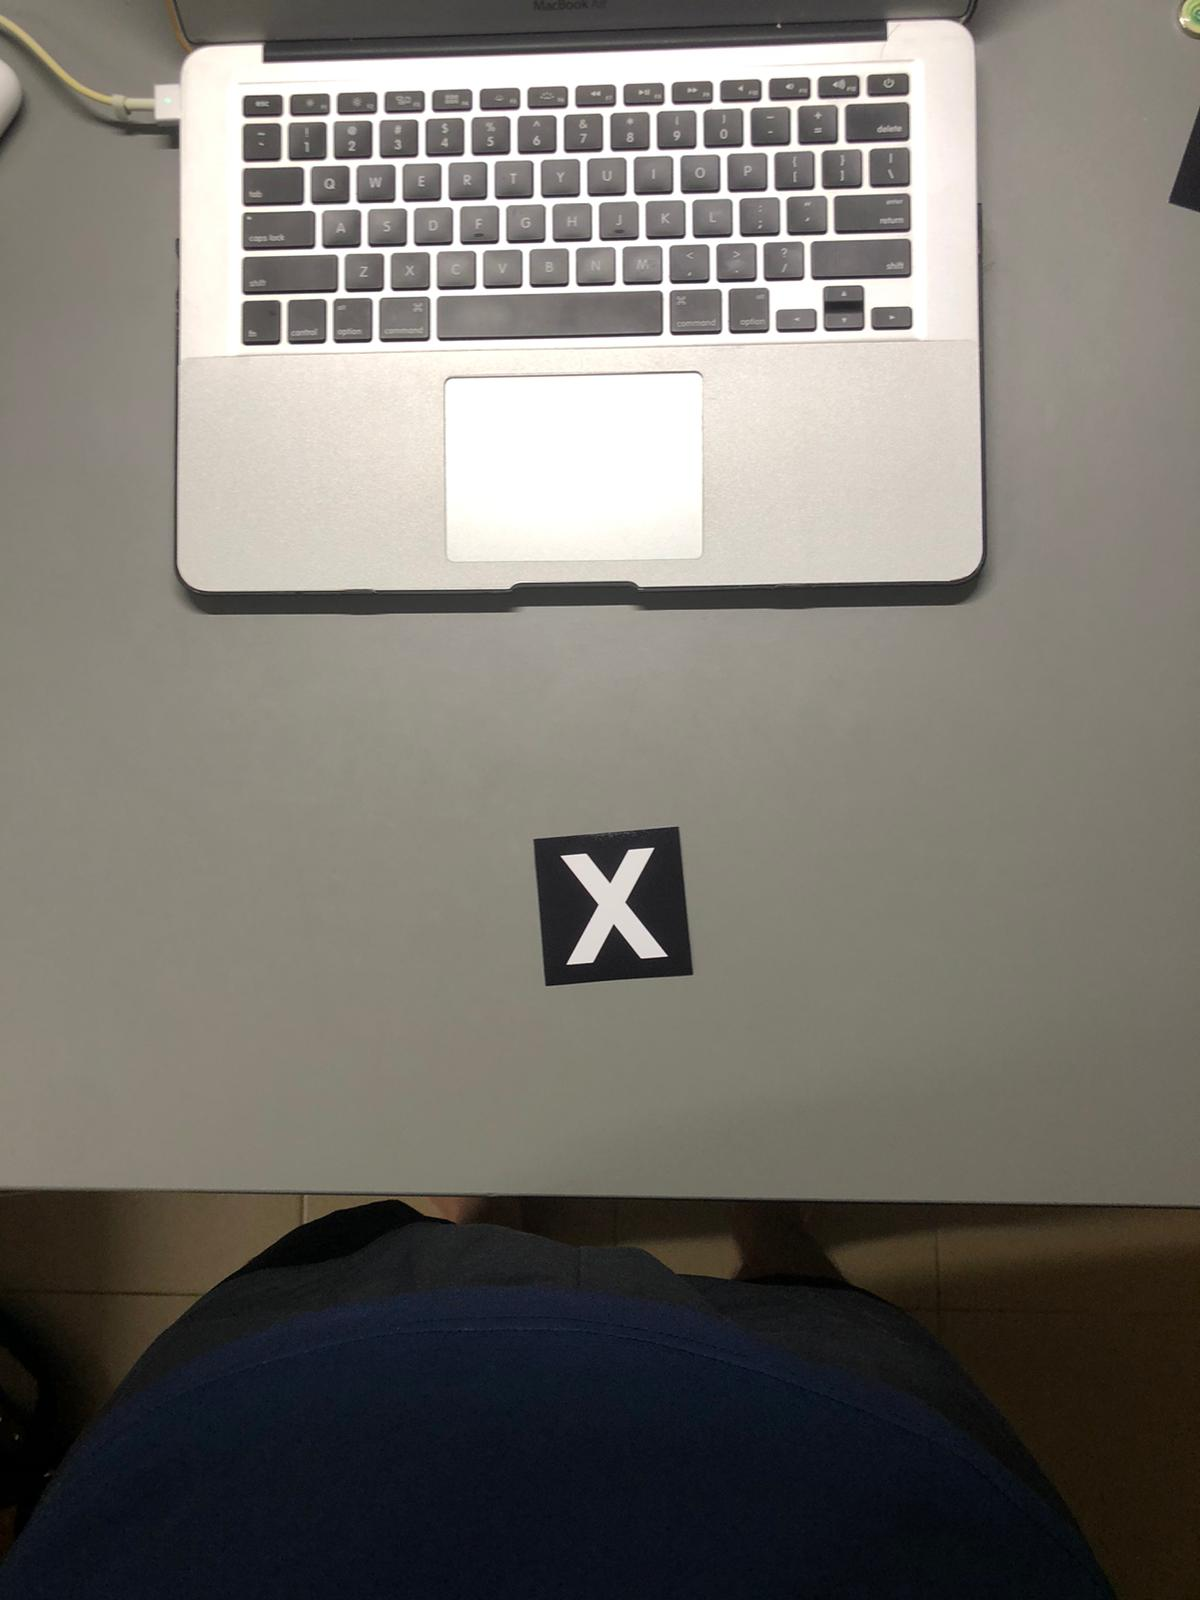X: (546, 833, 684, 988)
